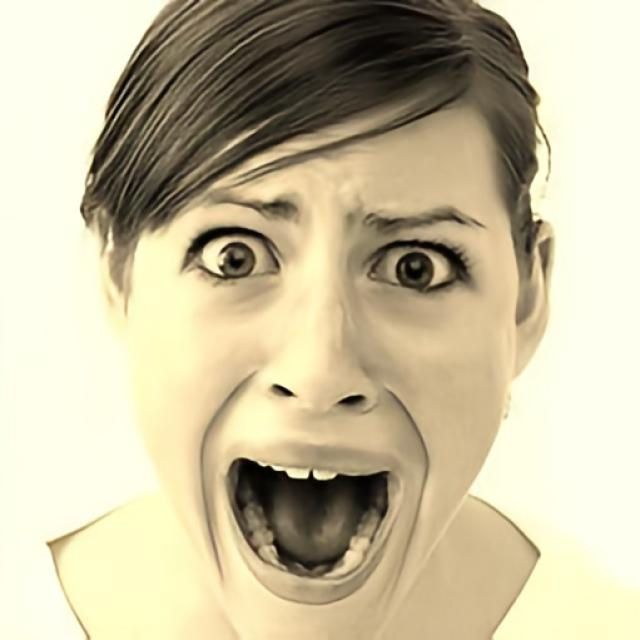fear: (124, 75, 518, 640)
